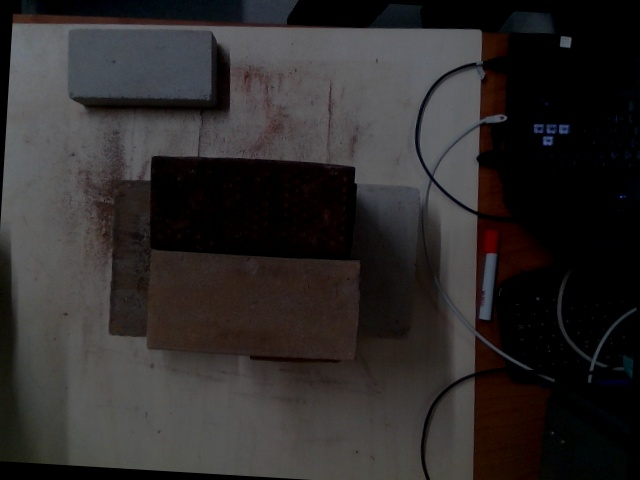brick: (144, 251, 357, 361), (147, 156, 352, 260), (68, 29, 210, 98)
